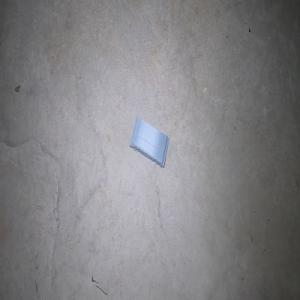PlasticPart: (129, 115, 169, 168)
